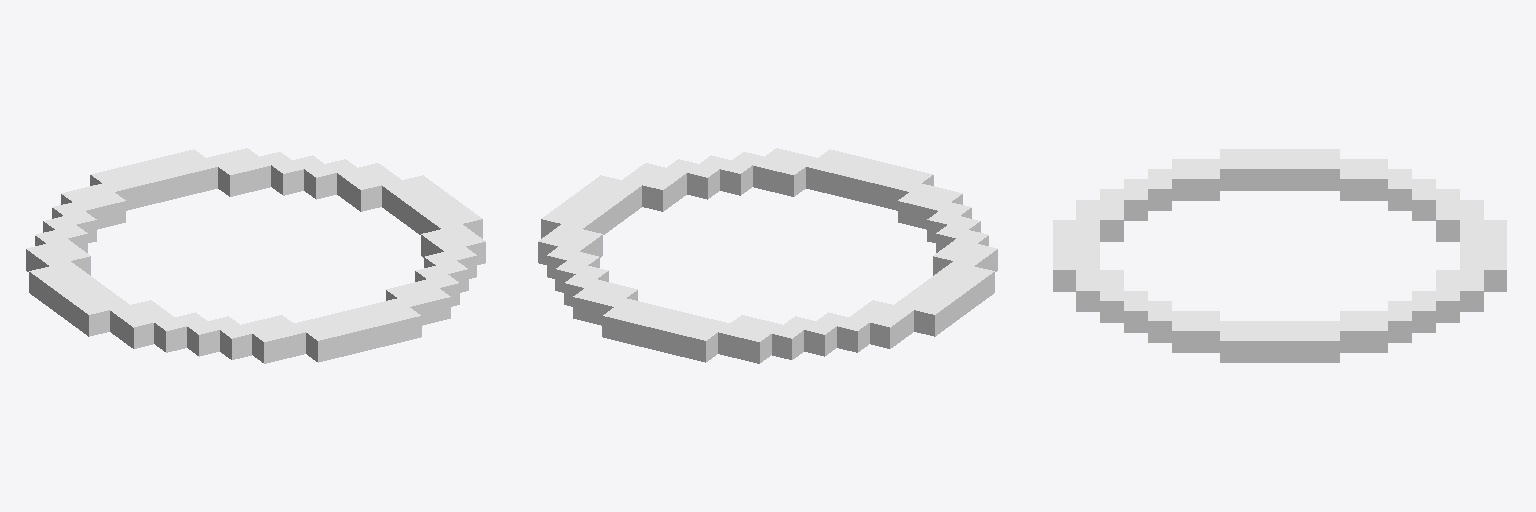
File: buttonBorder.obj
3 renders of one model, left to right at view 1: azimuth 30°, elevation 25°; view 2: azimuth 150°, elevation 25°; view 3: azimuth 270°, elevation 25°, orthographic.
Parts seen in each view (by area): view 1: object 1; view 2: object 1; view 3: object 1.
Part boxes in pixels (x1,y1,x2,y2): object 1: (26,148,485,363); object 1: (538,148,997,363); object 1: (1053,149,1506,362).
Size of the model in its own units: 1.9 by 0.1 by 1.9.